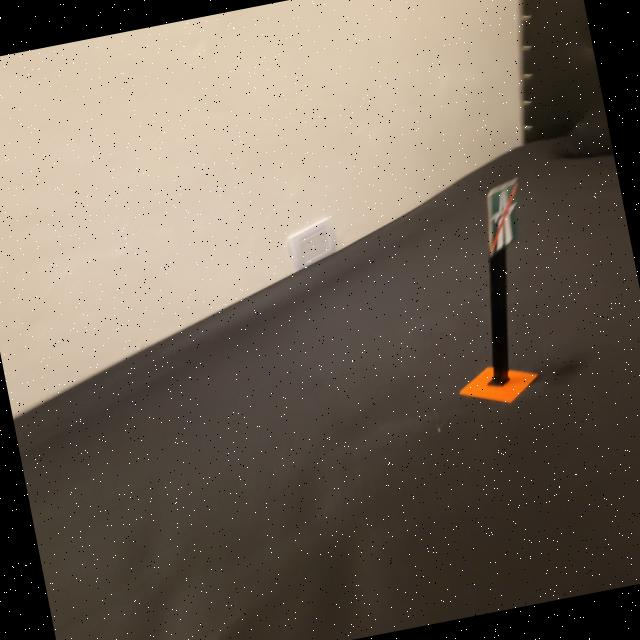highway_exit: (474, 177, 532, 258)
